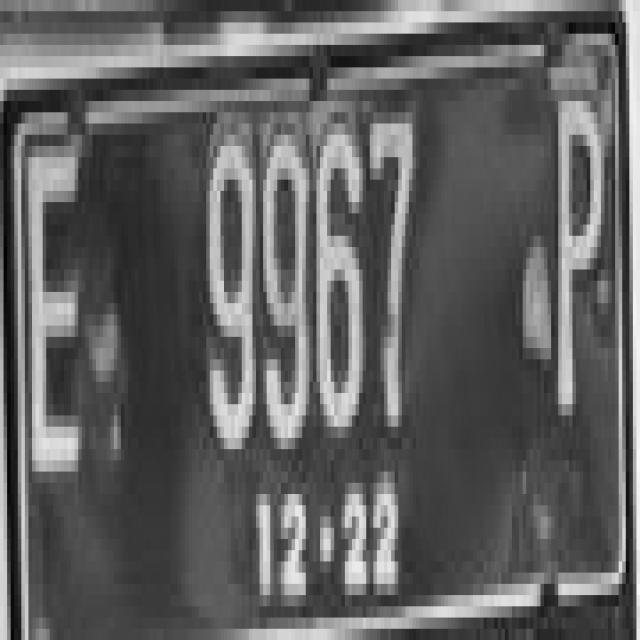license-plat: (5, 19, 636, 637)
